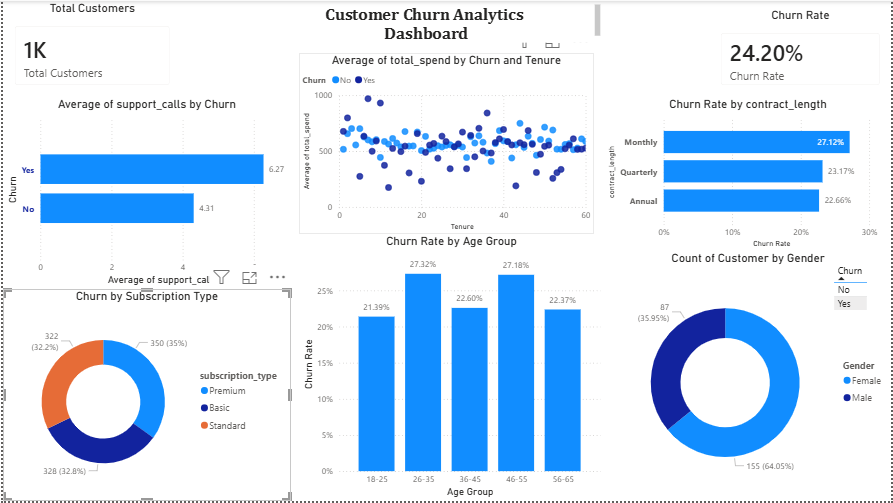

The page's visual inventory and layout, read from the dashboard file:
{"tool":"powerbi","page":{"name":"Page 1","canvas":[1280,720],"ordinal":0},"visuals":[{"type":"cardVisual","title":"Churn Rate","fields":{"Data":["3_customer_churn_cleaned.Churn Rate"]},"box":[1016.6,10.1,263.5,128.2],"z":0},{"type":"donutChart","title":"Churn by Subscription Type","fields":{"Category":["3_customer_churn_cleaned.subscription_type"],"Y":["CountNonNull(3_customer_churn_cleaned.CustomerID)"]},"box":[0,414.7,414.7,305.3],"z":1000},{"type":"clusteredBarChart","fields":{"Category":["3_customer_churn_cleaned.Churn"],"Y":["Avg(3_customer_churn_cleaned.support_calls)"]},"box":[0,138.2,414.7,276.5],"z":2000},{"type":"barChart","fields":{"Y":["3_customer_churn_cleaned.Churn Rate"],"Category":["3_customer_churn_cleaned.contract_length"]},"box":[865.4,138.2,414.7,221.8],"z":3000},{"type":"scatterChart","fields":{"X":["3_customer_churn_cleaned.Tenure"],"Y":["Avg(3_customer_churn_cleaned.total_spend)"],"Series":["3_customer_churn_cleaned.Churn"]},"box":[426.2,74.9,424.8,260.6],"z":4000},{"type":"clusteredColumnChart","fields":{"Category":["3_customer_churn_cleaned.Age Group"],"Y":["3_customer_churn_cleaned.Churn Rate"]},"box":[426.2,335.5,439.2,384.5],"z":5000},{"type":"textbox","box":[357.1,0,508.3,60.5],"z":6000},{"type":"cardVisual","title":"Total Customers","fields":{"Data":["3_customer_churn_cleaned.Total Customers"]},"box":[0,0,257.8,138.2],"z":7000},{"type":"donutChart","title":"Count of Customer by Gender","fields":{"Category":["3_customer_churn_cleaned.Gender"],"Y":["CountNonNull(3_customer_churn_cleaned.CustomerID)"]},"box":[865,360,415,360],"z":8000},{"type":"tableEx","fields":{"Values":["3_customer_churn_cleaned.Churn"]},"box":[1191,372.9,89,117.6],"z":9000}]}

Visuals, with their boxes in screenshot pixels (x1, y1, x2, y2), scaled from the page's 1280x720 canvas onto the 893x503 screenshot:
"Churn Rate" cardVisual: select_region(709, 7, 892, 97)
"Churn by Subscription Type" donutChart: select_region(0, 290, 289, 502)
clusteredBarChart - 3_customer_churn_cleaned.Churn x Avg(3_customer_churn_cleaned.support_calls): select_region(0, 97, 289, 290)
barChart - 3_customer_churn_cleaned.Churn Rate x 3_customer_churn_cleaned.contract_length: select_region(604, 97, 892, 252)
scatterChart - 3_customer_churn_cleaned.Tenure x Avg(3_customer_churn_cleaned.total_spend): select_region(297, 52, 594, 234)
clusteredColumnChart - 3_customer_churn_cleaned.Age Group x 3_customer_churn_cleaned.Churn Rate: select_region(297, 234, 604, 502)
textbox: select_region(249, 0, 604, 42)
"Total Customers" cardVisual: select_region(0, 0, 180, 97)
"Count of Customer by Gender" donutChart: select_region(603, 252, 892, 502)
tableEx - 3_customer_churn_cleaned.Churn: select_region(831, 261, 892, 343)
